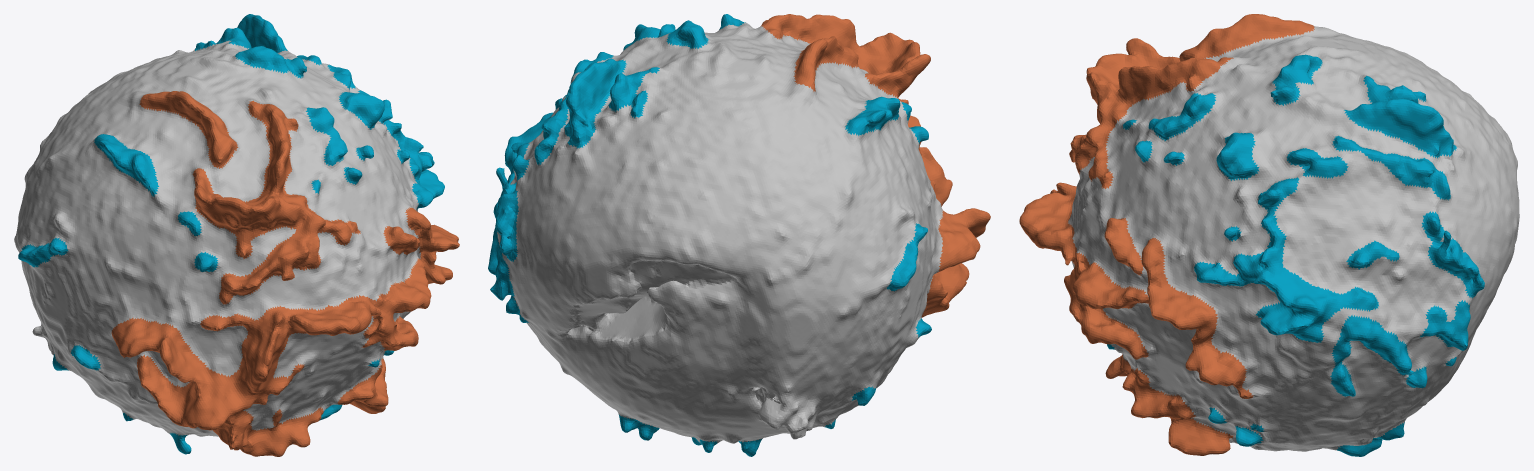
3 views of the same model, side by side, from view 1: azimuth 30°, elevation 25°; view 2: azimuth 150°, elevation 25°; view 3: azimuth 270°, elevation 25° (orthographic). The views are drawn at different scales.
Bounding box in the file's own units: 155 × 139 × 158.
